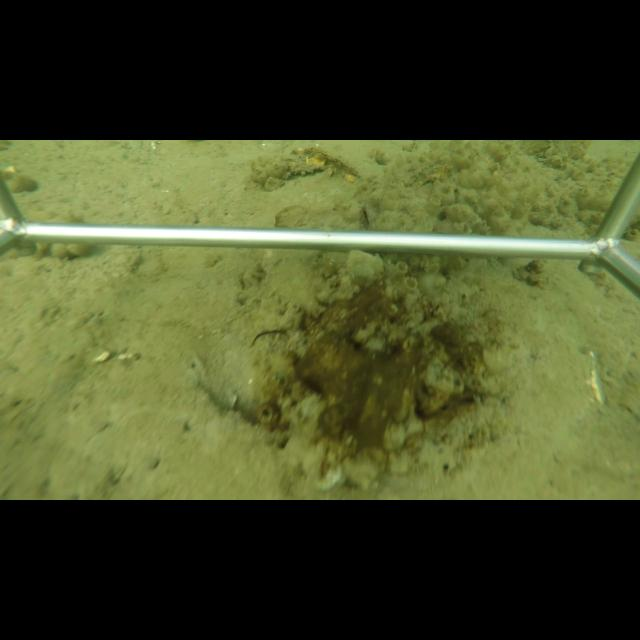Oyster-Closed: (288, 146, 362, 178)
Oyster-Open: (246, 321, 290, 355), (358, 199, 375, 232)
